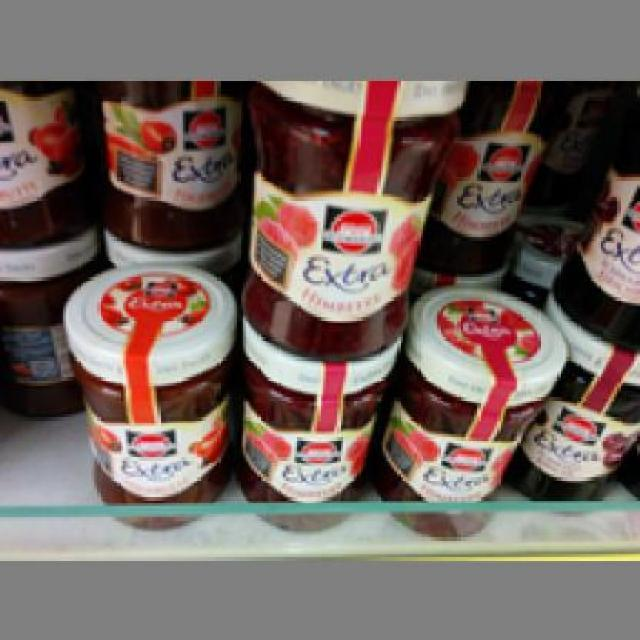Jam: (233, 74, 470, 357), (363, 277, 566, 540), (56, 260, 232, 526), (226, 320, 403, 526), (89, 78, 242, 252)
